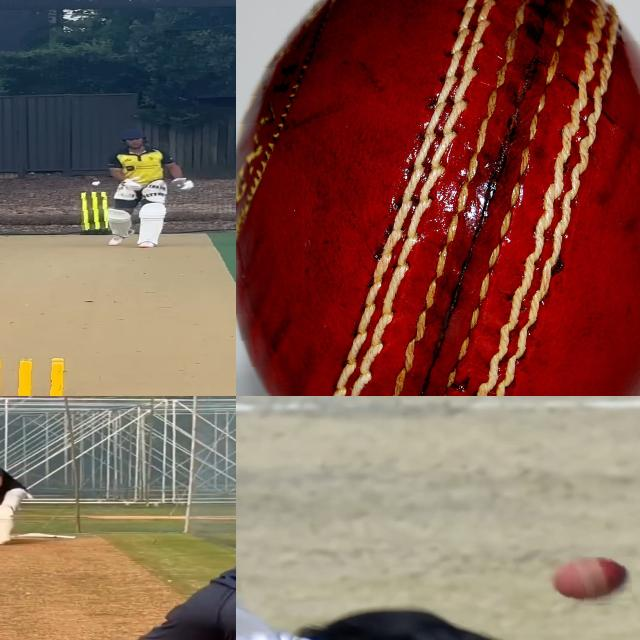Cricket ball: (236, 0, 640, 396), (548, 557, 632, 607), (91, 180, 102, 187)
Stumps: (0, 357, 78, 396), (79, 192, 108, 234)
